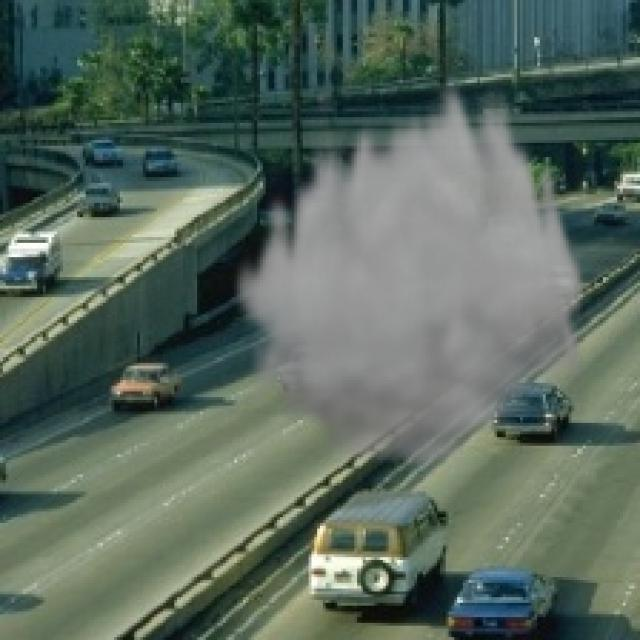Smoke: (228, 66, 588, 477)
